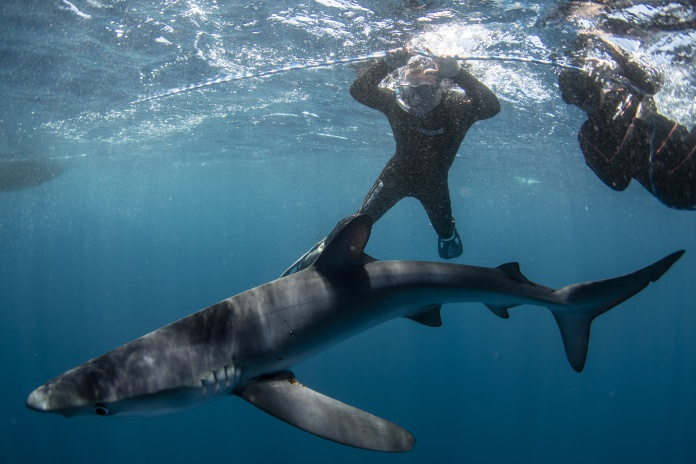Azul: (7, 198, 692, 464)
